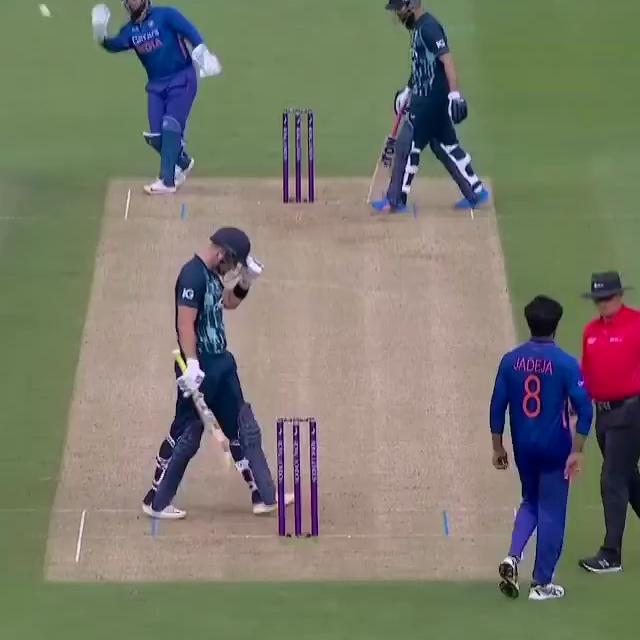umpire: (569, 260, 640, 582)
